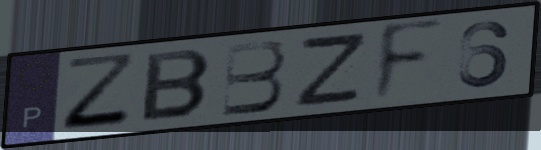6: (457, 18, 513, 91)
B: (137, 47, 216, 124), (219, 37, 289, 119)
F: (369, 15, 447, 109)
Z: (59, 50, 142, 134), (290, 29, 371, 110)
